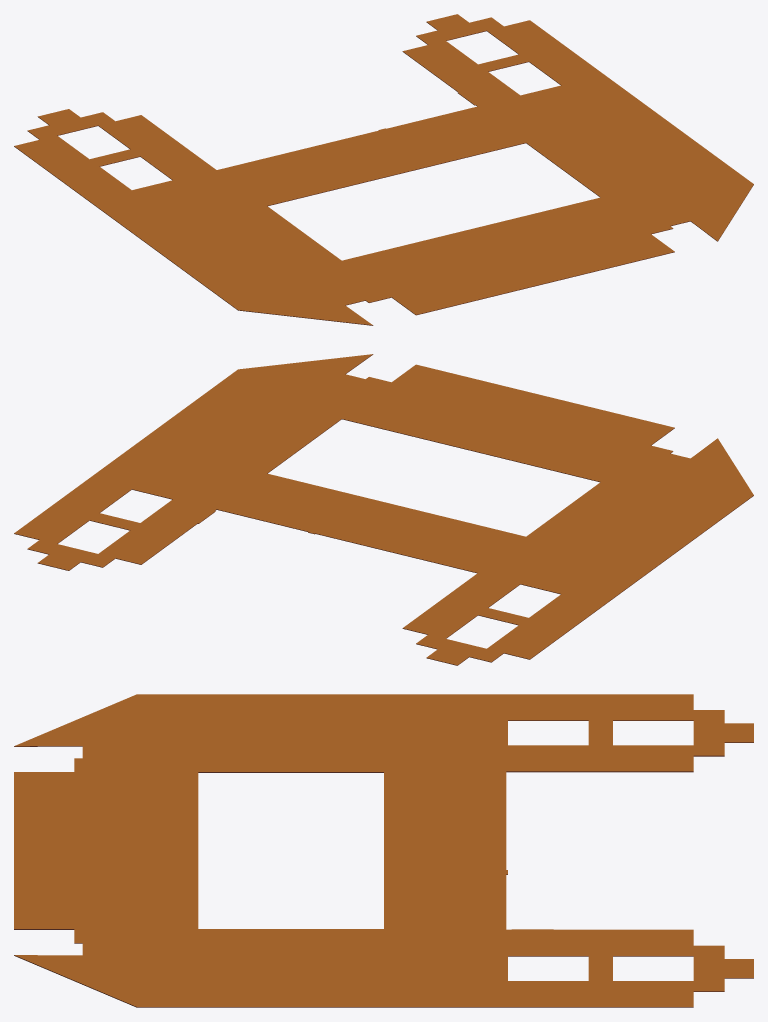
Rendered from SueloP1_UV.fbx.
The picture shows the model from 3 angles, top to bottom: view 1: azimuth 30°, elevation 25°; view 2: azimuth 150°, elevation 25°; view 3: azimuth 270°, elevation 25°; orthographic projection. The views are drawn at different scales.
Visible parts, largest first — view 1: SueloP1_UV; view 2: SueloP1_UV; view 3: SueloP1_UV.
Part boxes in pixels (x1,y1,x2,y2): SueloP1_UV: [14, 14, 753, 325]; SueloP1_UV: [14, 354, 753, 665]; SueloP1_UV: [14, 694, 753, 1007].
Bounding box in the file's own units: 4780 × 5 × 4780.
